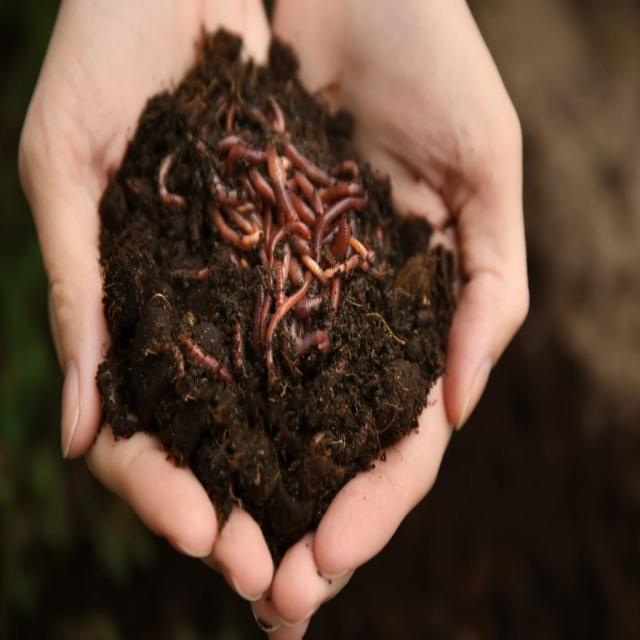materia_organica: (156, 93, 374, 441)
